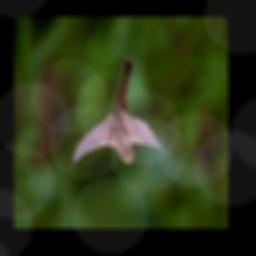Sparrow: (69, 57, 169, 171)
